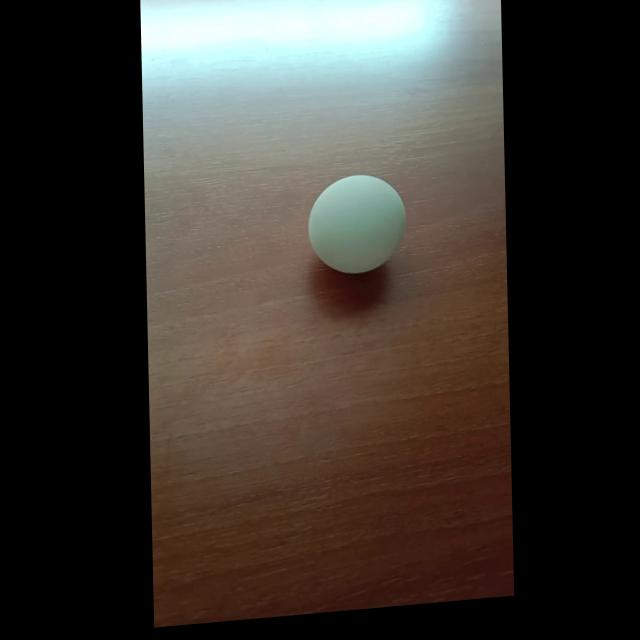white ball: (306, 169, 407, 278)
